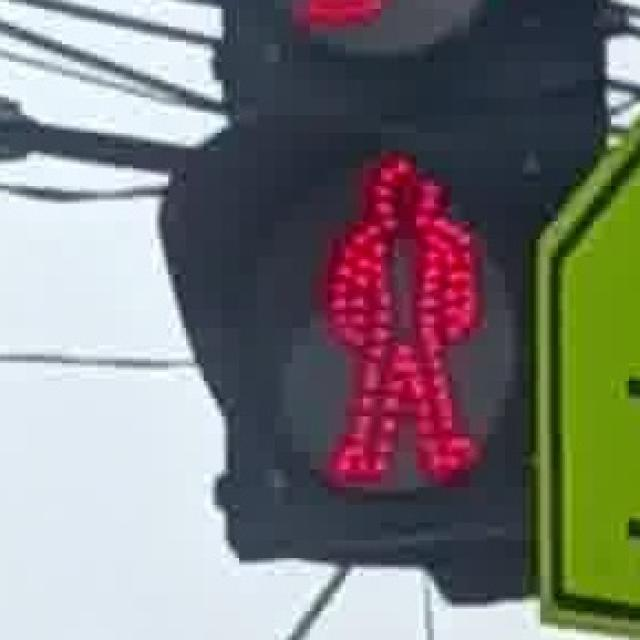red-crossing: (292, 130, 485, 498)
